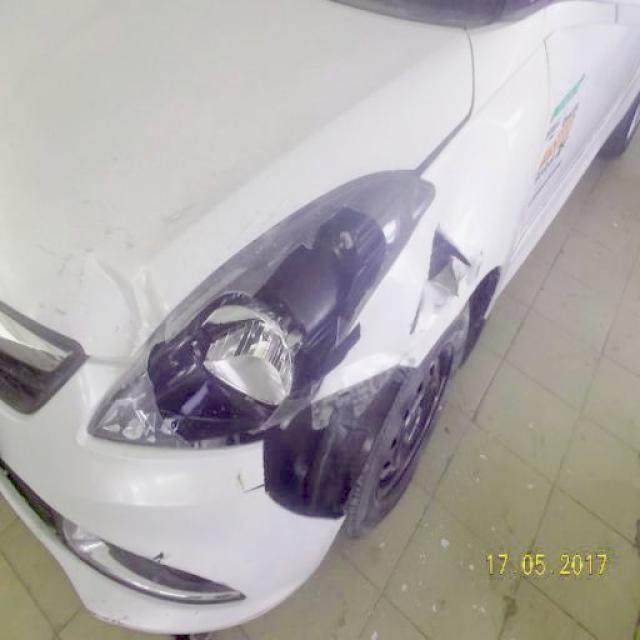car damage: (261, 363, 419, 519), (409, 221, 481, 342), (99, 266, 171, 357)
